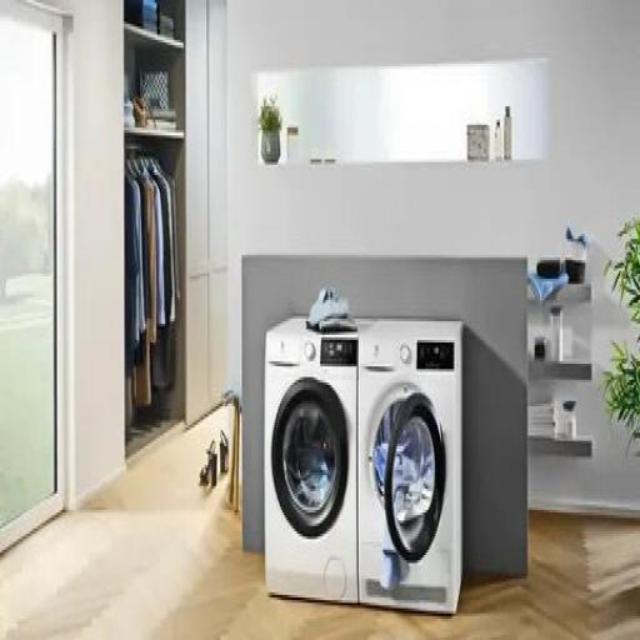Washing-Machine: (362, 322, 466, 614), (266, 317, 358, 605)
